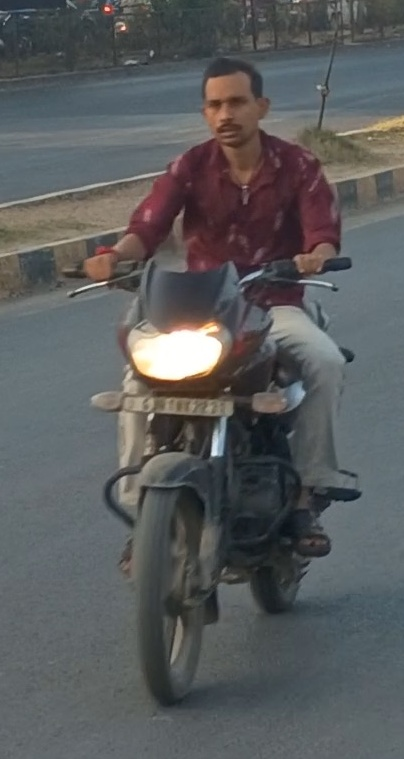BikeWithRider: (50, 50, 371, 715)
NoHelmet: (189, 50, 278, 152)
